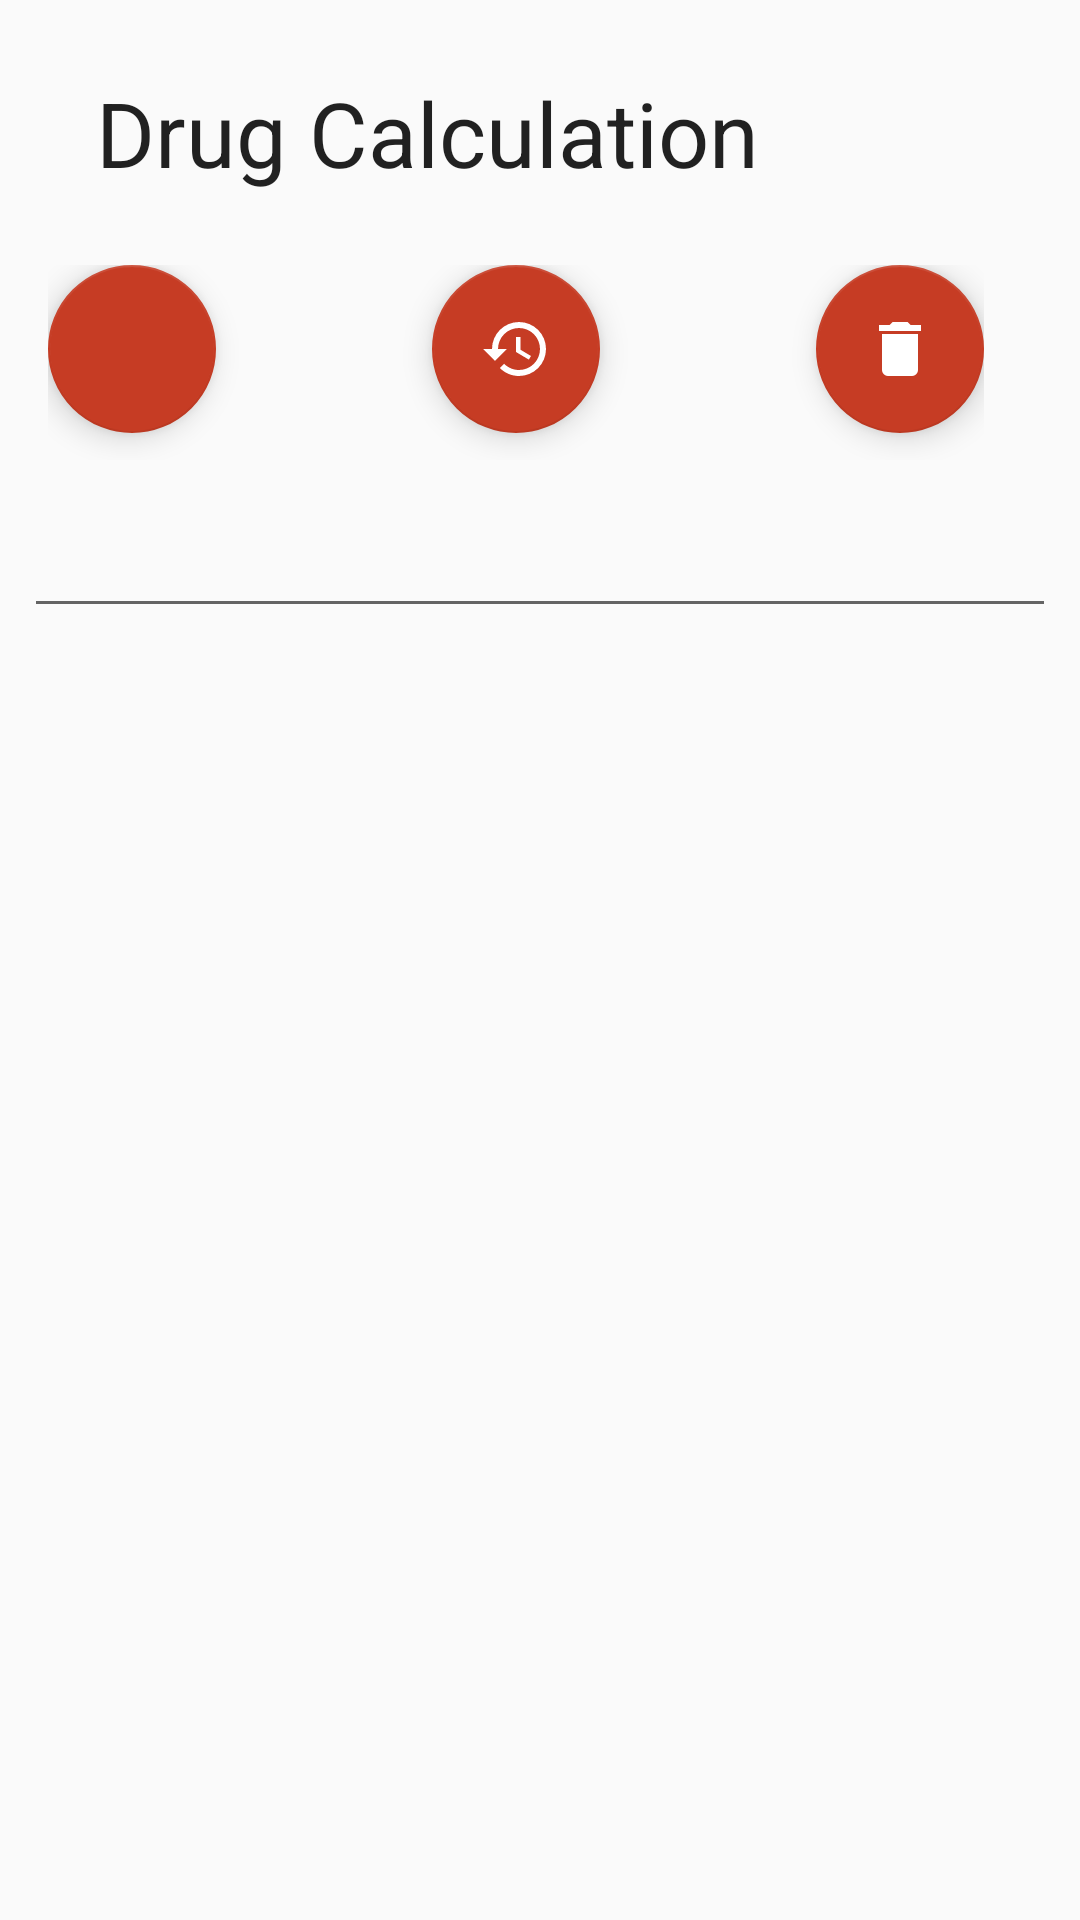

Where icons sit on this 1080px×1920px app screen, as (x1, y1, x2, y2):
delete: (816, 265, 984, 433)
update: (432, 265, 600, 433)
